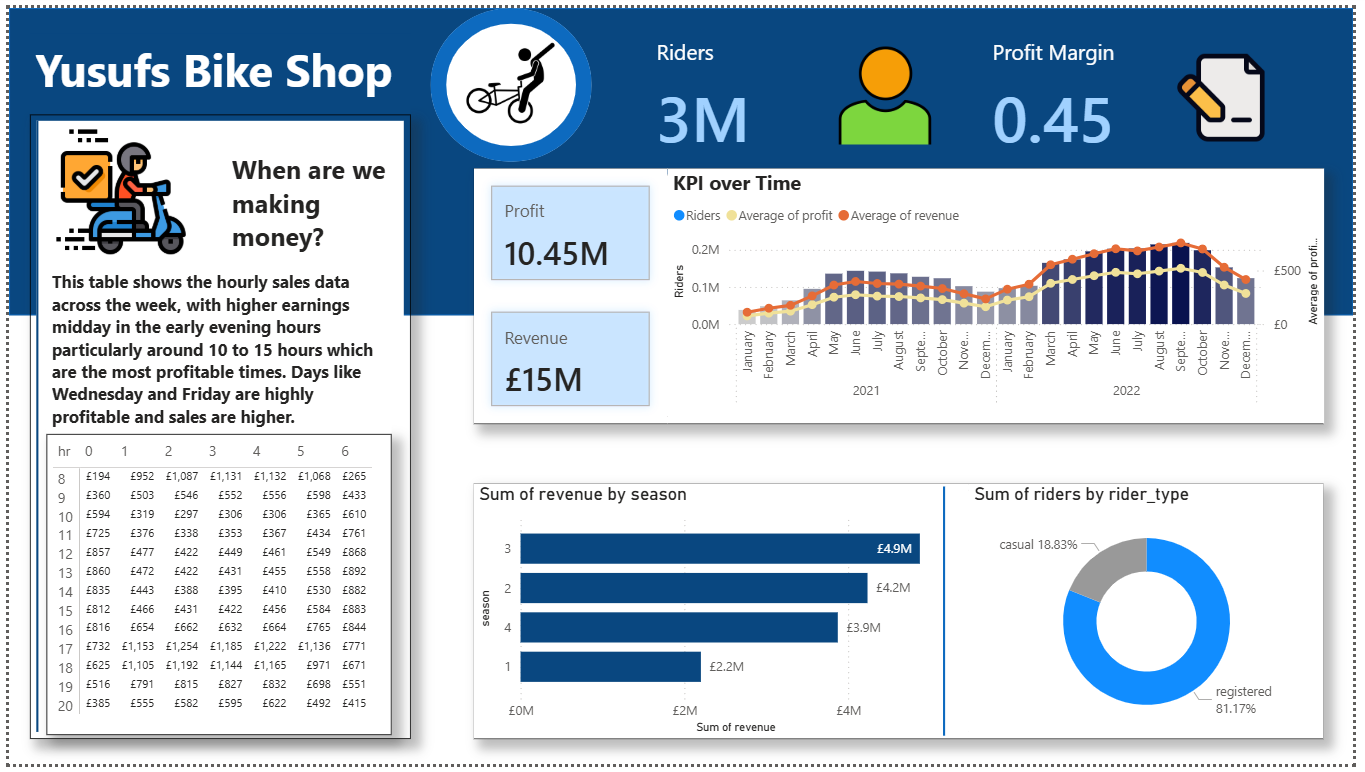

What the dashboard file says about the page in this screenshot:
{"tool":"powerbi","page":{"name":"Page 1","canvas":[1280,720],"ordinal":0},"visuals":[{"type":"shape","box":[0,0,1280.4,292.9],"z":0},{"type":"cardVisual","fields":{"Data":["Query1.riders"]},"box":[19.6,101.8,362.5,594.6],"z":1000},{"type":"pivotTable","fields":{"Values":["Query1.revenue"],"Rows":["Query1.hr"],"Columns":["Query1.weekday"]},"box":[35,405,328.3,286.7],"z":2000},{"type":"cardVisual","fields":{"Data":["Query1.riders"]},"box":[443.3,453.3,808.3,243.3],"z":3000},{"type":"textbox","box":[207.1,132.1,157.1,112.5],"z":4000},{"type":"cardVisual","fields":{"Data":["Query1.riders"]},"box":[443.3,153.3,808.3,243.3],"z":5000},{"type":"textbox","box":[35.7,244.6,328.6,160.7],"z":6000},{"type":"clusteredBarChart","fields":{"Category":["Query1.season"],"Y":["Query1.revenue"]},"box":[442.9,453.6,471.4,242.9],"z":7000},{"type":"lineClusteredColumnComboChart","title":"KPI over Time","fields":{"Category":["Query1.dteday.Variation.Date Hierarchy.Year","Query1.dteday.Variation.Date Hierarchy.Month","Query1.dteday.Variation.Date Hierarchy.Day"],"Y":["Query1.riders"],"Y2":["Query1.profit","Query1.revenue"]},"box":[626.8,153.6,625,242.9],"z":8000},{"type":"donutChart","fields":{"Category":["Query1.rider_type"],"Y":["Query1.riders"]},"box":[914.3,453.6,337.5,242.9],"z":9000},{"type":"shape","box":[769.6,455.4,241.1,237.5],"z":10000},{"type":"cardVisual","fields":{"Data":["Query1.riders","Query1.profit_margin"]},"box":[589.3,0,642.9,146.4],"z":11000},{"type":"cardVisual","title":"KPI over Time","fields":{"Data":["Query1.profit","Query1.revenue"]},"box":[442.9,153.6,183.9,242.9],"z":12000},{"type":"shape","box":[401.8,0,153.6,146.4],"z":13000},{"type":"textbox","box":[19.6,25,362.5,76.8],"z":14000},{"type":"image","box":[425,25,107.1,94.6],"z":15000},{"type":"image","box":[35,101.7,141.7,143.3],"z":16000}]}

Visuals, with their boxes in screenshot pixels (x1, y1, x2, y2), scaled from the page's 1280x720 canvas onto the 1365x772 screenshot:
shape: [x1=0, y1=0, x2=1364, y2=314]
cardVisual - Query1.riders: [x1=21, y1=109, x2=407, y2=747]
pivotTable - Query1.revenue x Query1.hr: [x1=37, y1=434, x2=387, y2=742]
cardVisual - Query1.riders: [x1=473, y1=486, x2=1335, y2=747]
textbox: [x1=221, y1=142, x2=388, y2=262]
cardVisual - Query1.riders: [x1=473, y1=164, x2=1335, y2=425]
textbox: [x1=38, y1=262, x2=388, y2=435]
clusteredBarChart - Query1.season x Query1.revenue: [x1=472, y1=486, x2=975, y2=747]
"KPI over Time" lineClusteredColumnComboChart: [x1=668, y1=165, x2=1335, y2=425]
donutChart - Query1.rider_type x Query1.riders: [x1=975, y1=486, x2=1335, y2=747]
shape: [x1=821, y1=488, x2=1078, y2=743]
cardVisual - Query1.riders x Query1.profit_margin: [x1=628, y1=0, x2=1314, y2=157]
"KPI over Time" cardVisual: [x1=472, y1=165, x2=668, y2=425]
shape: [x1=428, y1=0, x2=592, y2=157]
textbox: [x1=21, y1=27, x2=407, y2=109]
image: [x1=453, y1=27, x2=567, y2=128]
image: [x1=37, y1=109, x2=188, y2=263]
